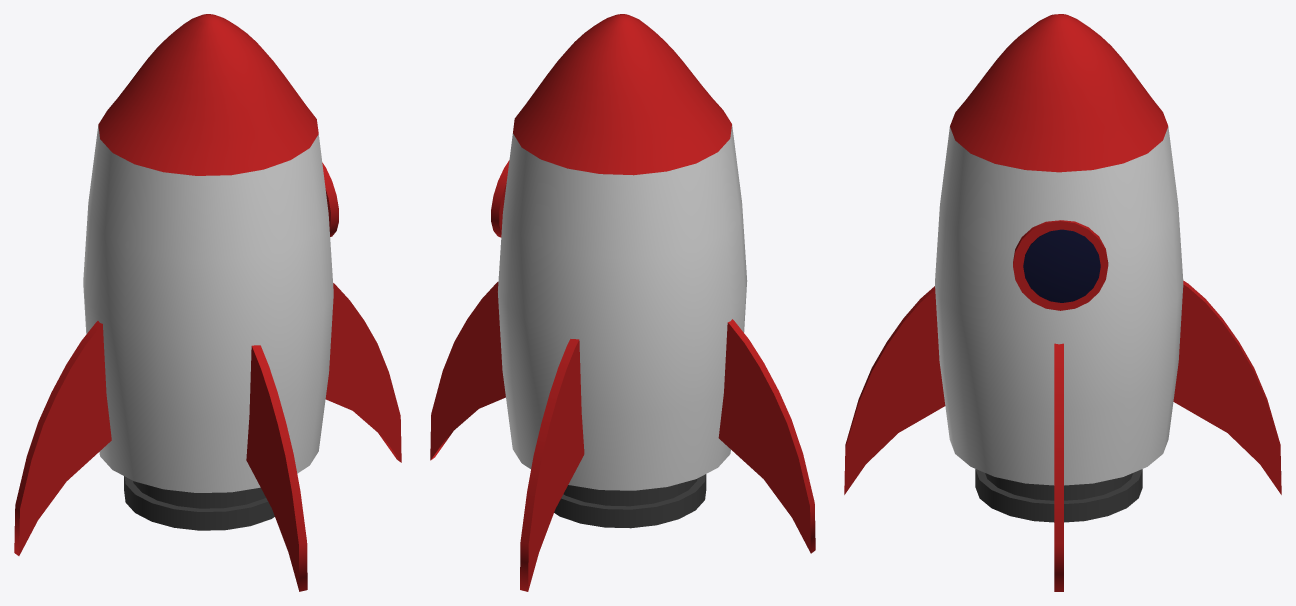
File: spaceship.fbx
The picture shows the model from 3 angles, left to right: view 1: azimuth 30°, elevation 25°; view 2: azimuth 150°, elevation 25°; view 3: azimuth 270°, elevation 25°; orthographic projection.
Parts seen in each view (by area): view 1: spaceship_body, spaceship_cap, fin2, fin4, fin1, level3, level2, window_edge; view 2: spaceship_body, spaceship_cap, fin2, fin3, fin1, level3, level2, window_edge; view 3: spaceship_body, spaceship_cap, fin3, fin4, window_glass, level3, window_edge, fin1, level2.
Part boxes in pixels (box(x1,y1,x2,y2)): spaceship_body: box(83, 126, 333, 492); spaceship_cap: box(98, 14, 318, 175); fin2: box(14, 321, 111, 555); fin4: box(246, 345, 307, 591); fin1: box(325, 283, 401, 462); level3: box(124, 476, 274, 530); level2: box(133, 481, 265, 508); window_edge: box(322, 162, 338, 236); spaceship_body: box(498, 124, 747, 490); spaceship_cap: box(513, 14, 731, 175); fin2: box(718, 319, 815, 553); fin3: box(520, 339, 584, 591); fin1: box(430, 282, 505, 460); level3: box(554, 474, 706, 528); level2: box(563, 479, 697, 506); window_edge: box(491, 160, 509, 237); spaceship_body: box(935, 127, 1183, 485); spaceship_cap: box(950, 14, 1168, 172); fin3: box(1173, 280, 1281, 494); fin4: box(844, 286, 945, 494); window_glass: box(1023, 229, 1100, 302); level3: box(975, 469, 1142, 522); window_edge: box(1013, 220, 1108, 310); fin1: box(1054, 343, 1063, 591); level2: box(985, 473, 1132, 500).
Size of the model in its own units: 11.06 by 13.6 by 11.09.
